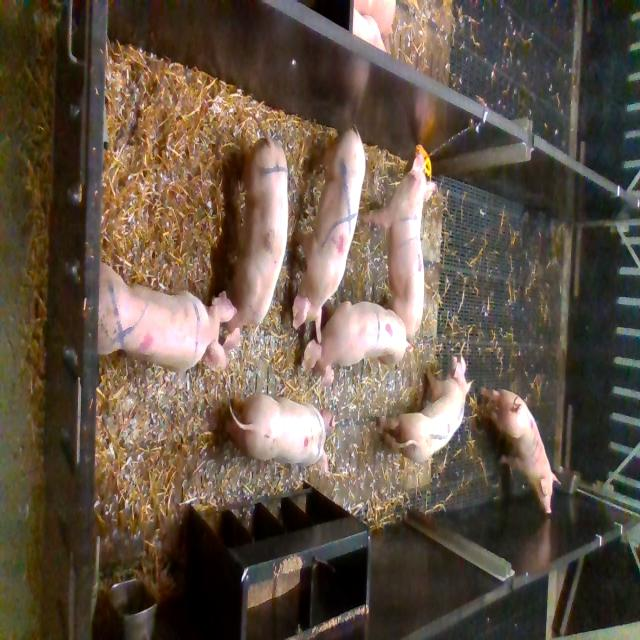pig: (291, 122, 366, 344), (97, 260, 238, 373), (223, 114, 289, 351), (359, 155, 436, 336), (473, 386, 561, 514), (376, 354, 474, 463), (301, 301, 414, 391), (225, 393, 336, 476)
